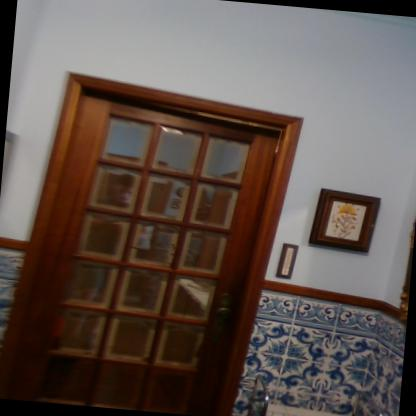closed: (0, 61, 314, 415)
